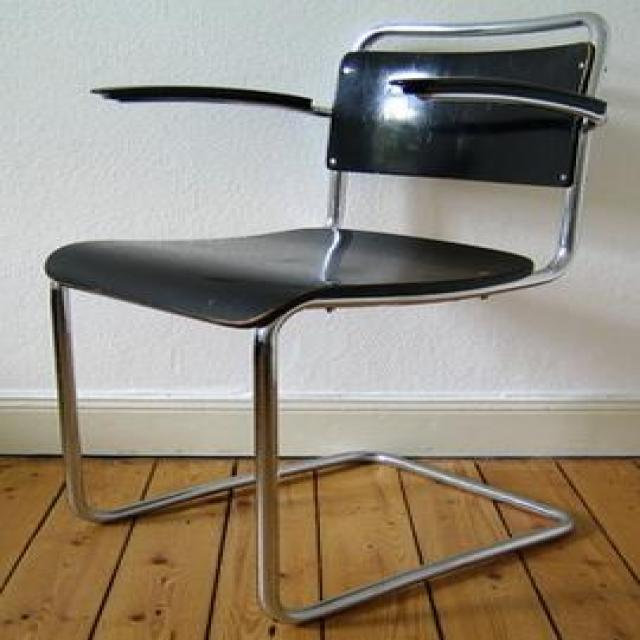chair: (43, 11, 609, 624)
